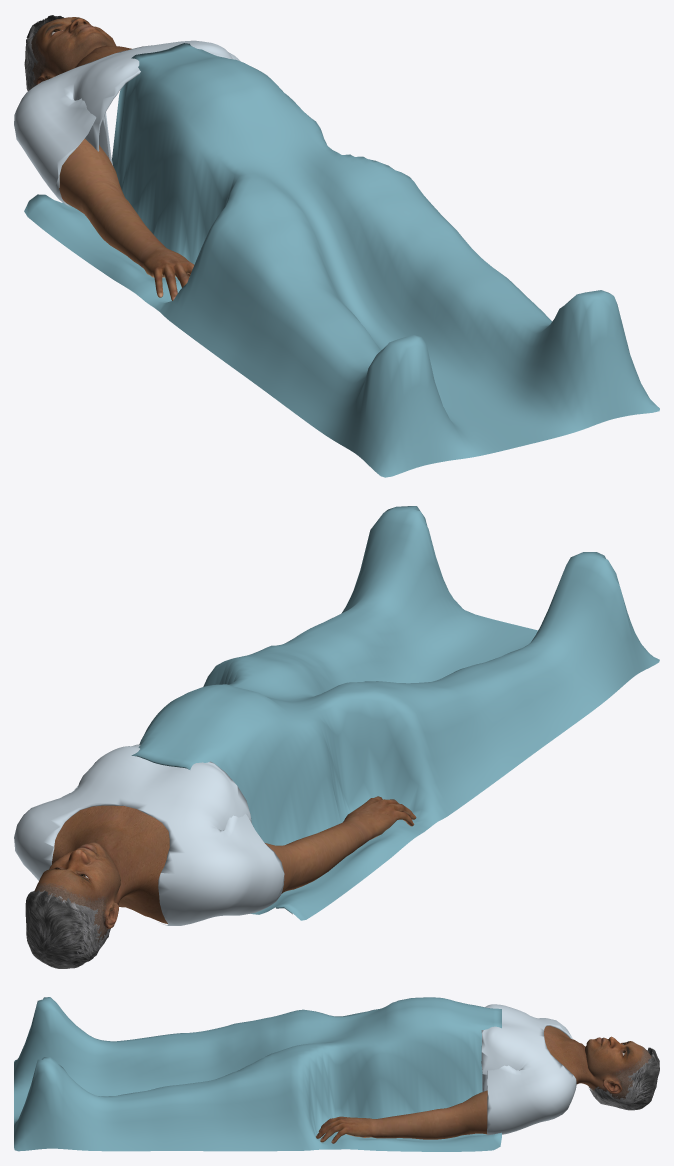
3 views of the same model, one above another, from view 1: azimuth 30°, elevation 25°; view 2: azimuth 150°, elevation 25°; view 3: azimuth 270°, elevation 25° (orthographic). The views are drawn at different scales.
Parts seen in each view (by area): view 1: sheet, gown, arms, body, hair; view 2: sheet, gown, body, arms, hair; view 3: sheet, gown, arms, body, hair.
Boxes of the visible parts, bbox=[...] form: sheet: bbox=[24, 43, 659, 477]; gown: bbox=[14, 40, 240, 206]; arms: bbox=[59, 138, 194, 300]; body: bbox=[31, 17, 131, 87]; hair: bbox=[24, 15, 63, 91]; sheet: bbox=[131, 506, 659, 920]; gown: bbox=[14, 744, 284, 925]; body: bbox=[34, 805, 169, 942]; arms: bbox=[265, 796, 416, 893]; hair: bbox=[25, 890, 110, 968]; sheet: bbox=[14, 997, 501, 1151]; gown: bbox=[481, 1004, 576, 1135]; arms: bbox=[316, 1090, 487, 1143]; body: bbox=[544, 1025, 651, 1099]; hair: bbox=[589, 1047, 659, 1110].
Bounding box in the file's own units: 0.6454 × 0.3381 × 1.92.
Materials: 8 (6 with a texture image).
